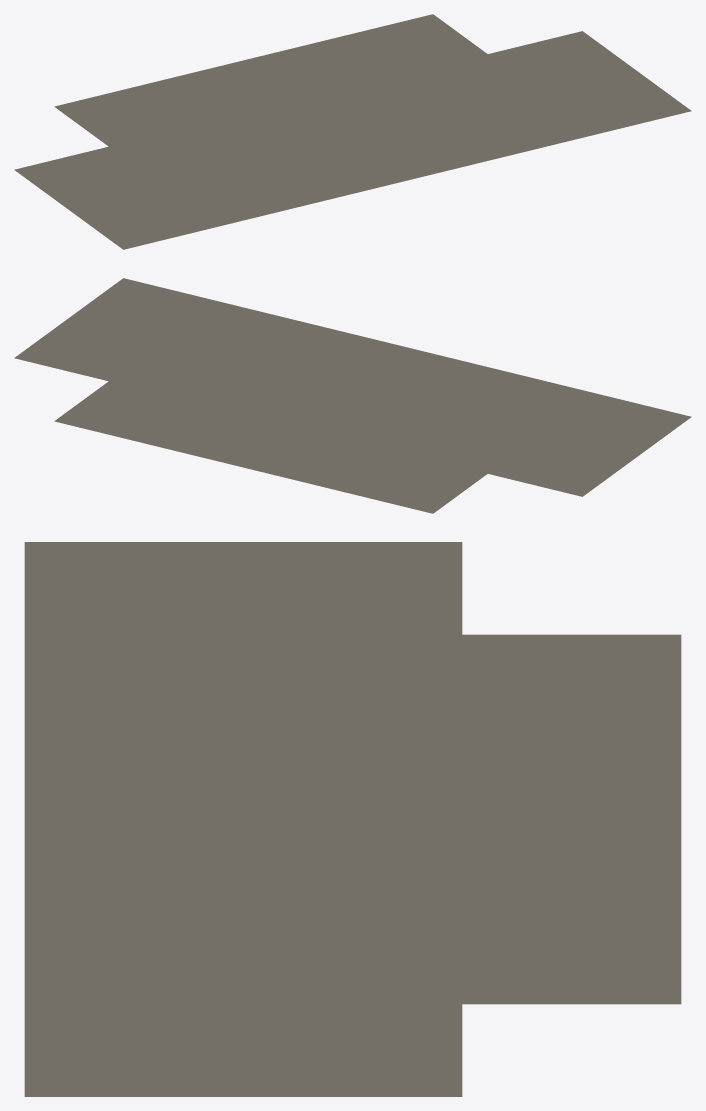
File: Isl-rocky4-RocksArea.fbx
3 renders of one model, top to bottom at view 1: azimuth 30°, elevation 25°; view 2: azimuth 150°, elevation 25°; view 3: azimuth 270°, elevation 25°, orthographic. The views are drawn at different scales.
Visible parts, largest first — view 1: Isl-rocky4-RocksArea; view 2: Isl-rocky4-RocksArea; view 3: Isl-rocky4-RocksArea.
Part boxes in pixels (<box>): Isl-rocky4-RocksArea: <box>14,14,691,249</box>; Isl-rocky4-RocksArea: <box>14,278,691,513</box>; Isl-rocky4-RocksArea: <box>24,542,681,1096</box>.
Bounding box in the file's own units: 6 × 0 × 3.
